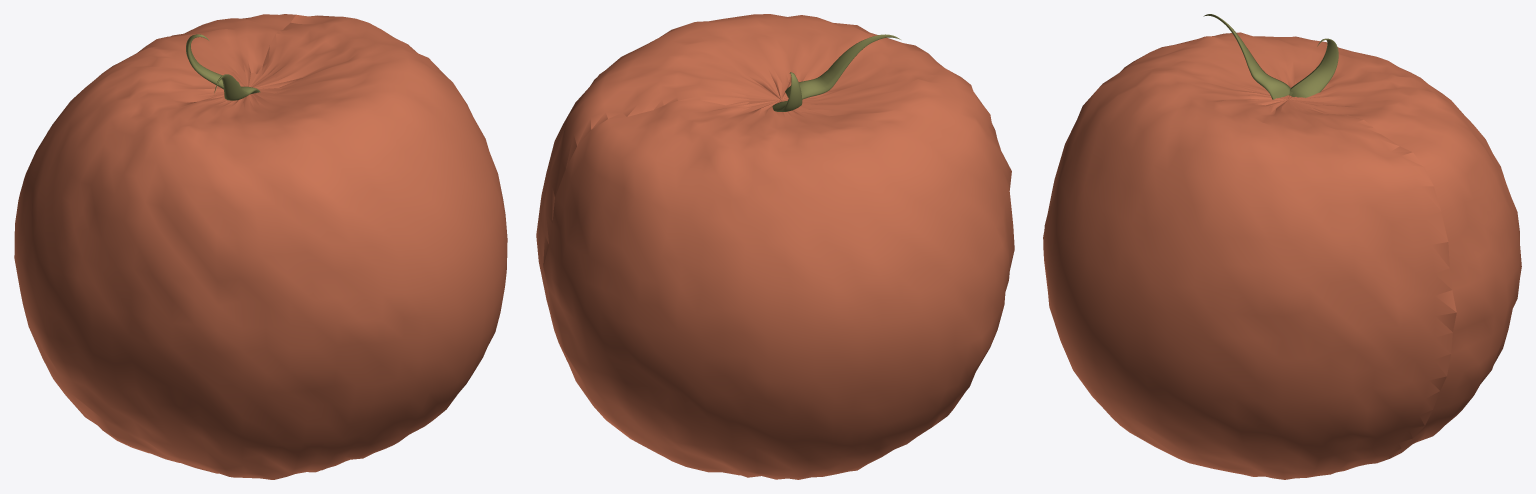
File: Tomato_Model.fbx
3 renders of one model, left to right at view 1: azimuth 30°, elevation 25°; view 2: azimuth 150°, elevation 25°; view 3: azimuth 270°, elevation 25°, orthographic. The views are drawn at different scales.
Visible parts, largest first — view 1: null_7, null_6, null_5; view 2: null_7, null_6, null_5; view 3: null_7, null_5, null_6.
Part boxes in pixels (x1,y1,x2,y2): null_7: (14,14,507,479); null_6: (214,74,260,100); null_5: (186,34,239,89); null_7: (536,14,1014,479); null_6: (785,34,900,99); null_5: (772,72,802,111); null_7: (1043,32,1521,479); null_5: (1289,38,1338,97); null_6: (1203,14,1290,99).
Size of the model in its own units: 82.58 by 76.27 by 84.04.
